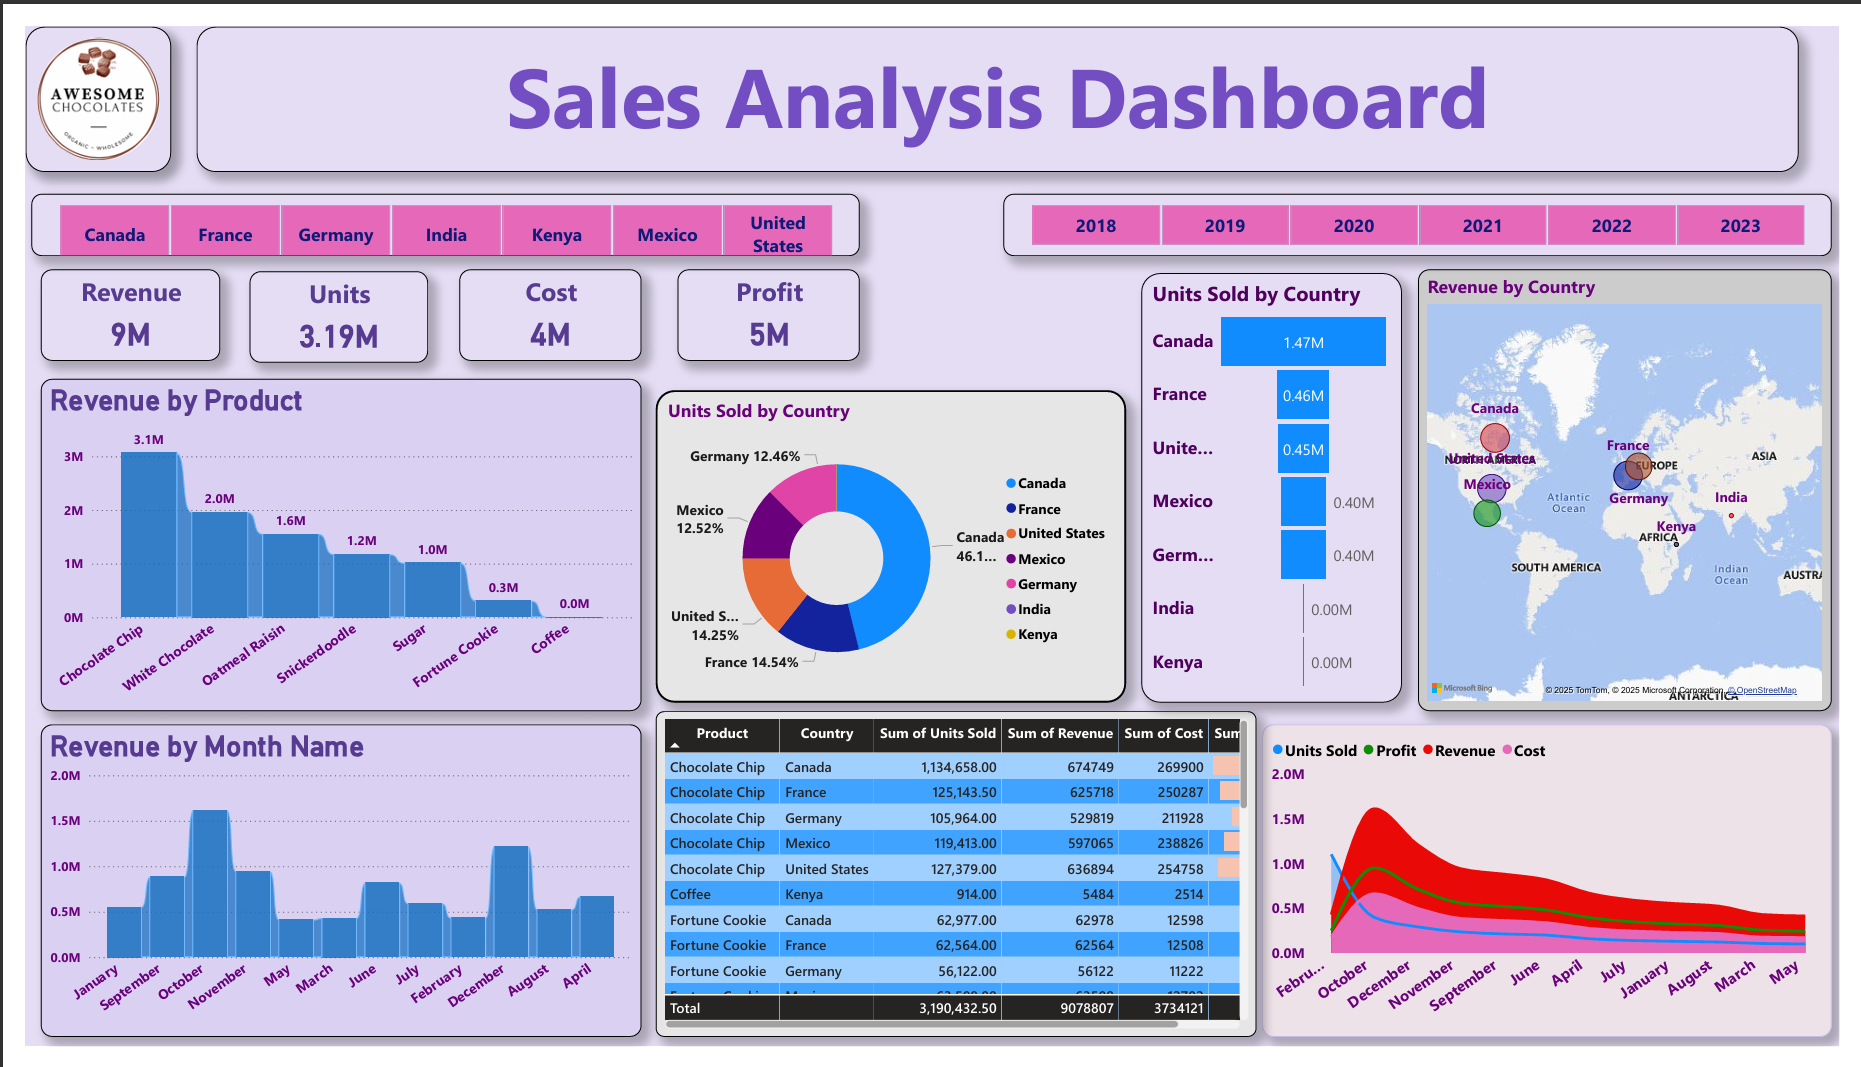

The dashboard page shown, as its layout file describes it:
{"tool":"powerbi","page":{"name":"Sales_DashBoard","canvas":[1920,1080],"ordinal":0},"visuals":[{"type":"image","box":[0,0,154.4,154.4],"z":0},{"type":"textbox","box":[181.1,0,1696.1,154.4],"z":1000},{"type":"card","title":"Revenue","fields":{"Values":["Sum(Sheet1.Revenue)"]},"box":[16.5,257.3,189.4,96.7],"z":2000},{"type":"card","title":"Units","fields":{"Values":["Sum(Sheet1.Units Sold)"]},"box":[236.7,259.3,189.4,96.7],"z":3000},{"type":"card","title":"Profit","fields":{"Values":["Sum(Sheet1.Profit)"]},"box":[689.5,257.3,193.5,96.7],"z":4000},{"type":"card","title":"Cost","fields":{"Values":["Sum(Sheet1.Cost)"]},"box":[459,257.3,193.5,96.7],"z":5000},{"type":"columnChart","title":"Revenue by Product","fields":{"Y":["Sum(Sheet1.Revenue)"],"Category":["Sheet1.Product"]},"box":[16.5,372.6,636,352],"z":6000},{"type":"donutChart","title":"Units Sold by Country","fields":{"Y":["Sum(Sheet1.Units Sold)"],"Category":["Sheet1.Country"]},"box":[666.9,384.9,498.1,331.4],"z":7000},{"type":"map","title":"Revenue by Country","fields":{"Size":["Sum(Sheet1.Revenue)"],"Category":["Sheet1.Country"]},"box":[1473.8,257.3,438.4,467.2],"z":8000},{"type":"lineChart","fields":{"Category":["Sheet1.Month Name"],"Y":["Sum(Sheet1.Units Sold)","Sum(Sheet1.Profit)","Sum(Sheet1.Revenue)","Sum(Sheet1.Cost)"]},"box":[1309.1,738.9,603.1,331.4],"z":9000},{"type":"tableEx","fields":{"Values":["Sheet1.Product","Sheet1.Country","Sum(Sheet1.Units Sold)","Sum(Sheet1.Revenue)","Sum(Sheet1.Cost)","Sum(Sheet1.Profit)"]},"box":[666.9,724.5,636,345.8],"z":10001},{"type":"columnChart","title":"Revenue by Month Name","fields":{"Category":["Sheet1.Month Name"],"Y":["Sum(Sheet1.Revenue)"]},"box":[16.5,738.9,636,331.4],"z":10002},{"type":"slicer","fields":{"Values":["Sheet1.Country"]},"box":[6.2,177,876.8,65.9],"z":10003},{"type":"slicer","fields":{"Values":["Sheet1.Year"]},"box":[1035.3,177,876.8,65.9],"z":10004},{"type":"funnel","title":"Units Sold by Country","fields":{"Y":["Sum(Sheet1.Units Sold)"],"Category":["Sheet1.Country"]},"box":[1181.5,261.4,275.8,454.9],"z":10005}]}

Visuals, with their boxes in screenshot pixels (x1, y1, x2, y2), scaled from the page's 1920x1080 canvas onto the 1861x1067 screenshot:
image: bbox(0, 0, 150, 153)
textbox: bbox(176, 0, 1820, 153)
"Revenue" card: bbox(16, 254, 200, 350)
"Units" card: bbox(229, 256, 413, 352)
"Profit" card: bbox(668, 254, 856, 350)
"Cost" card: bbox(445, 254, 632, 350)
"Revenue by Product" columnChart: bbox(16, 368, 632, 716)
"Units Sold by Country" donutChart: bbox(646, 380, 1129, 708)
"Revenue by Country" map: bbox(1429, 254, 1853, 716)
lineChart - Sheet1.Month Name x Sum(Sheet1.Units Sold): bbox(1269, 730, 1853, 1057)
tableEx - Sheet1.Product x Sheet1.Country: bbox(646, 716, 1263, 1057)
"Revenue by Month Name" columnChart: bbox(16, 730, 632, 1057)
slicer - Sheet1.Country: bbox(6, 175, 856, 240)
slicer - Sheet1.Year: bbox(1003, 175, 1853, 240)
"Units Sold by Country" funnel: bbox(1145, 258, 1413, 708)
